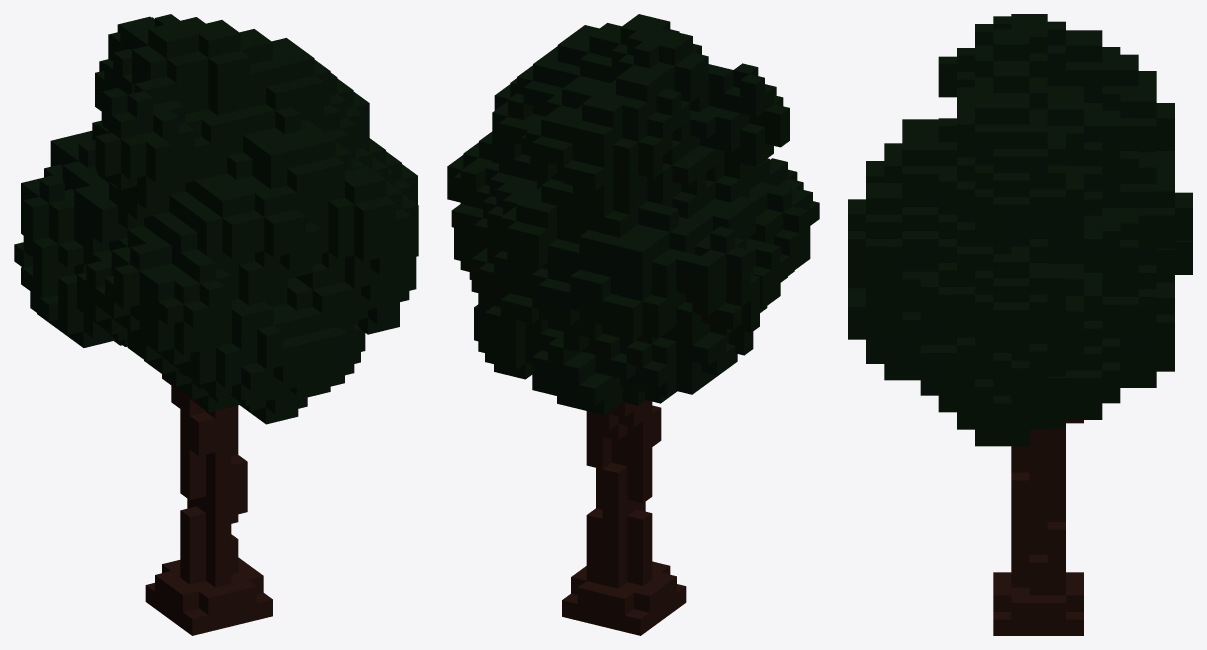
The model's file is TestTree.FBX.
3 renders of one model, left to right at view 1: azimuth 30°, elevation 25°; view 2: azimuth 150°, elevation 25°; view 3: azimuth 270°, elevation 25°, orthographic. The views are drawn at different scales.
Visible parts, largest first — view 1: TestTree; view 2: TestTree; view 3: TestTree.
Part boxes in pixels (<box>): TestTree: <box>14,14,418,635</box>; TestTree: <box>447,14,819,635</box>; TestTree: <box>848,14,1192,635</box>.
Bounding box in the file's own units: 21 × 19 × 35.
